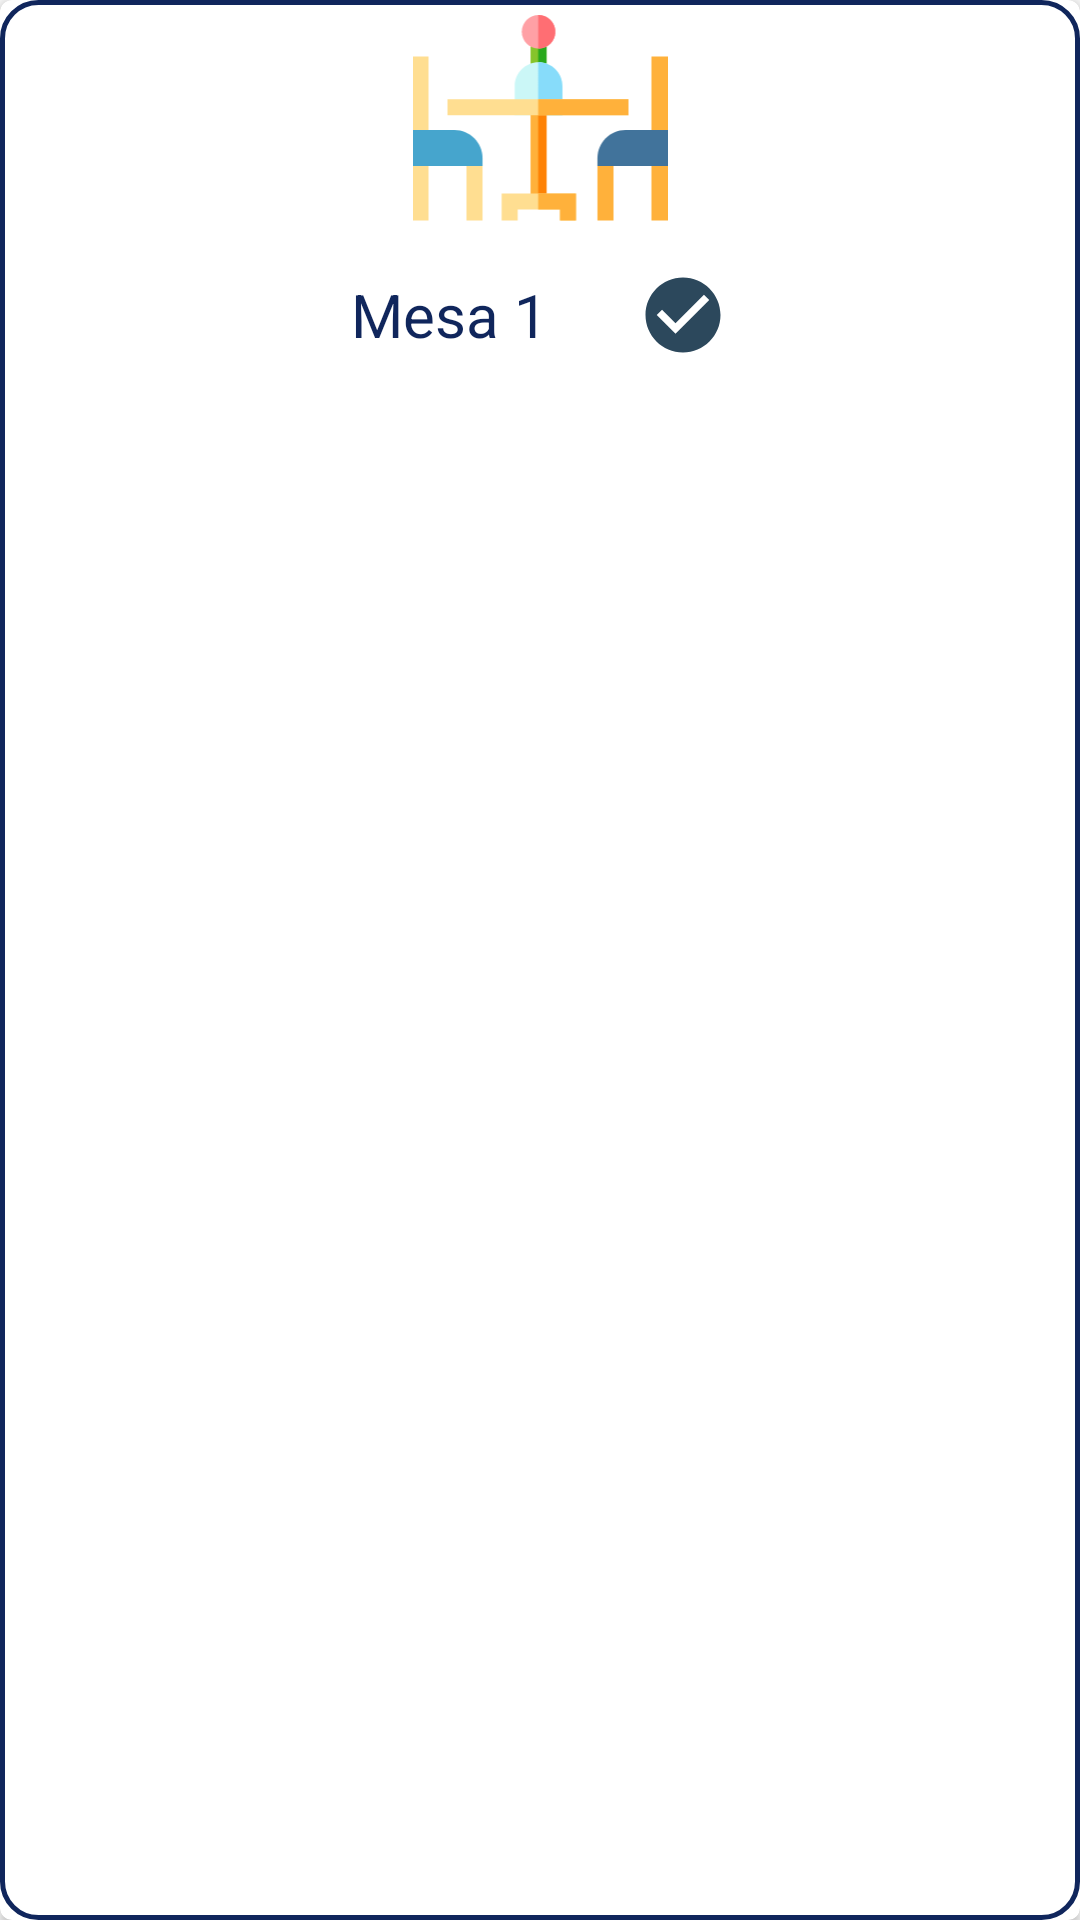

Locate icon controls on the screen. Image size 1080x1920, boxes as Rect(x1, y1, x2, y2).
check circle: Rect(645, 277, 721, 353)
kitchentable: Rect(413, 15, 668, 221)
